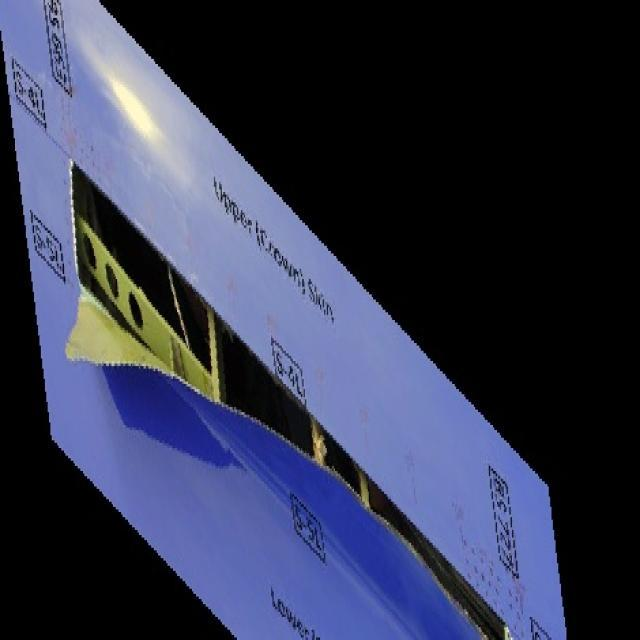crack: (66, 154, 516, 640)
